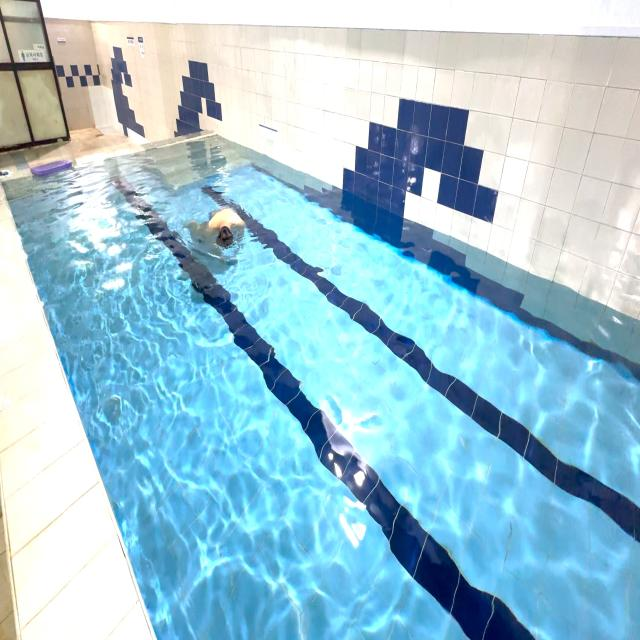Drowning: (178, 199, 258, 263)
